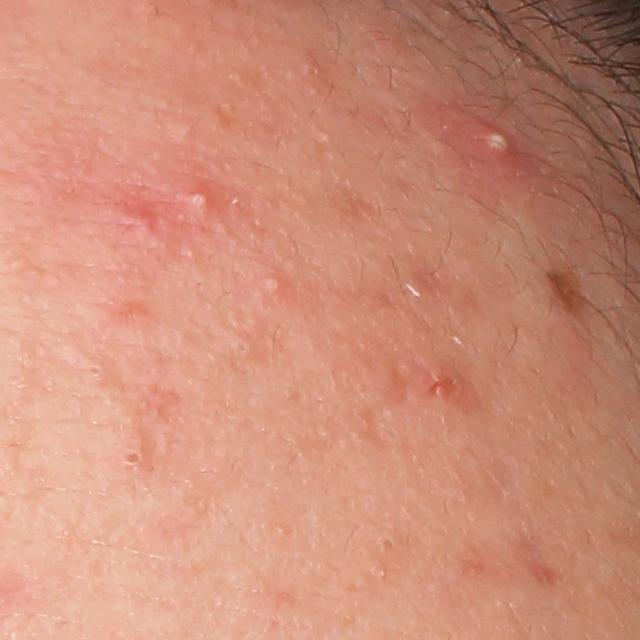comedo: (78, 360, 112, 392), (116, 443, 148, 473), (233, 334, 255, 358), (378, 534, 398, 554)
papule: (404, 356, 468, 411), (108, 195, 162, 240)
pustule: (454, 111, 528, 168), (169, 175, 224, 217)
